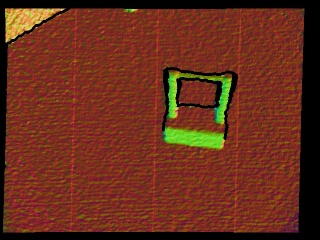station: (163, 68, 234, 150)
